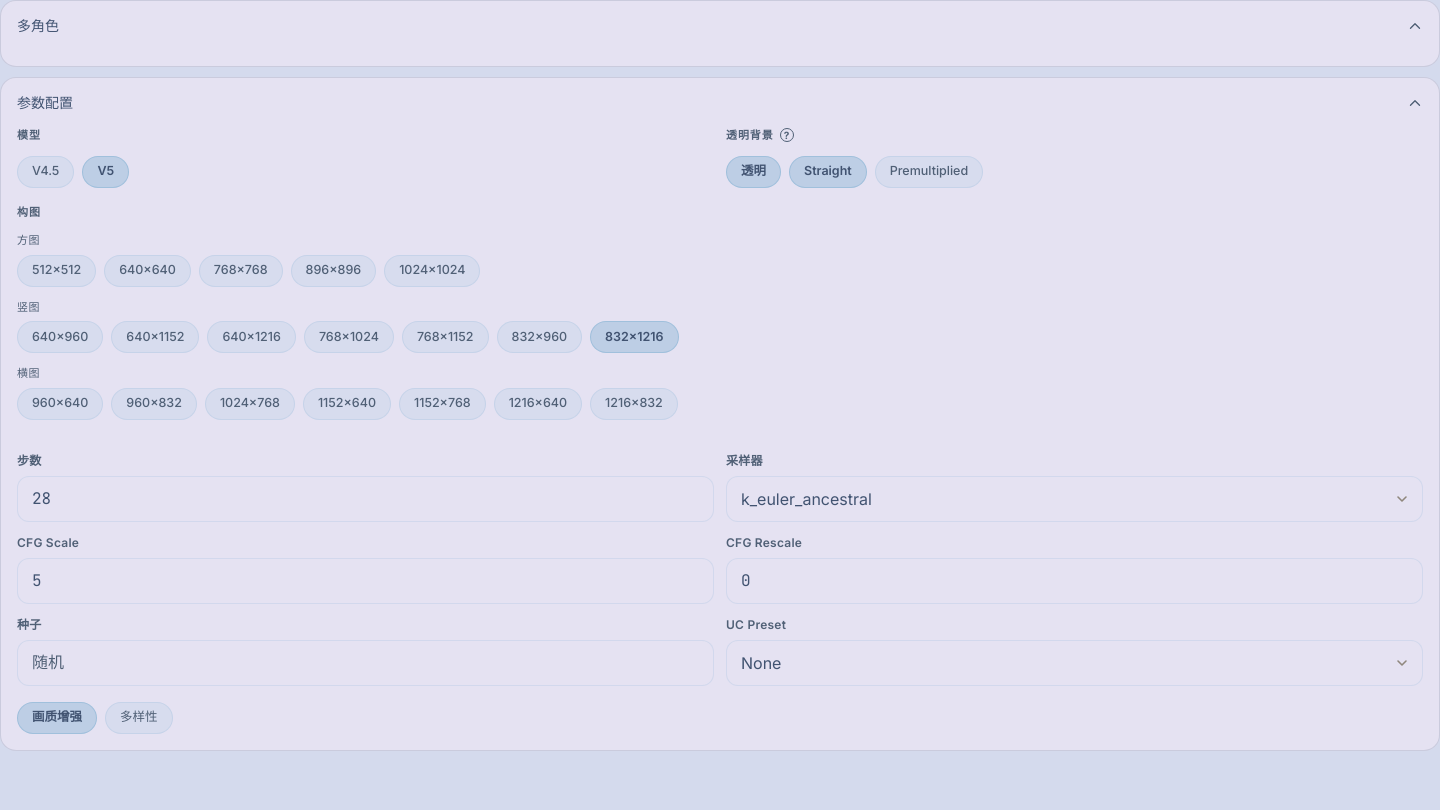
Test: ChainEditorParams › 点击透明模式问号显示说明
Click the button named "透明模式说明" at (786, 135), box top-left (780, 128), bottom-right (794, 142)
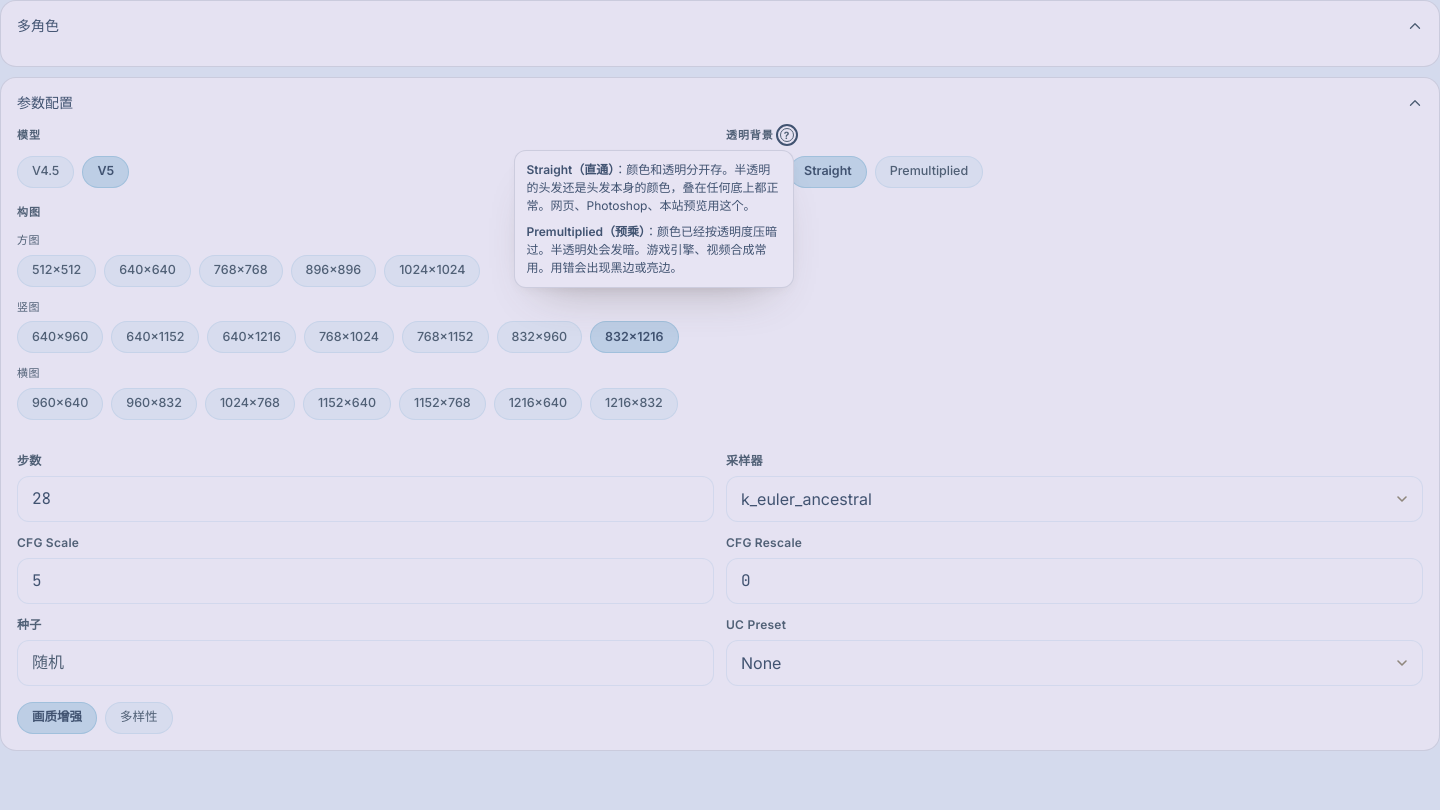
expect the tooltip shows "Straight（直通）": met, box top-left (526, 162), bottom-right (614, 177)
expect the tooltip shows "Premultiplied（预乘）": met, box top-left (526, 224), bottom-right (645, 239)
